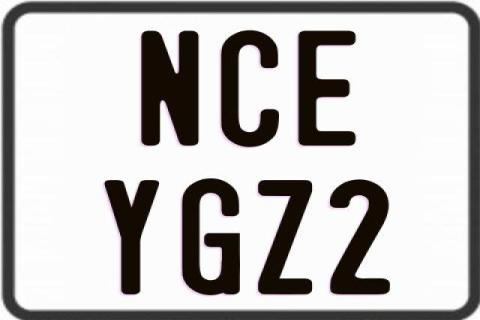0: (327, 178, 391, 296)
C: (218, 29, 279, 145)
E: (295, 28, 353, 148)
G: (181, 177, 242, 297)
N: (140, 29, 198, 144)
Y: (104, 177, 165, 297)
Z: (256, 179, 314, 299)
